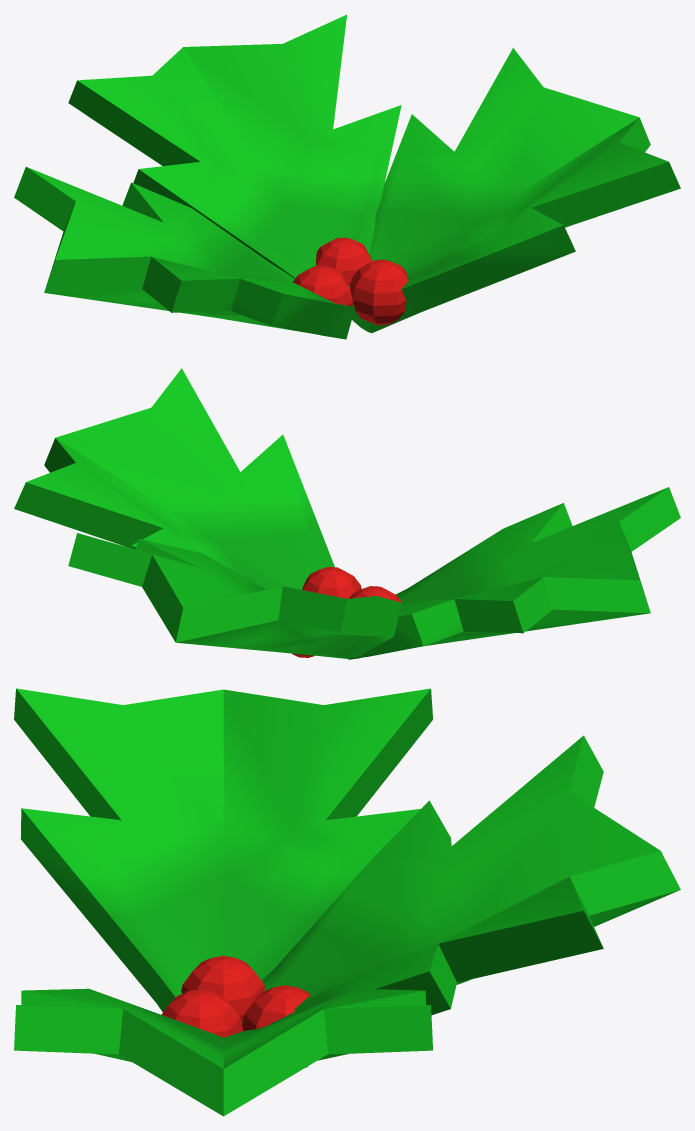
The model's file is Misseltoe.fbx.
The picture shows the model from 3 angles, top to bottom: view 1: azimuth 30°, elevation 25°; view 2: azimuth 150°, elevation 25°; view 3: azimuth 270°, elevation 25°; orthographic projection. The views are drawn at different scales.
Visible parts, largest first — view 1: Misseltoe; view 2: Misseltoe; view 3: Misseltoe.
Boxes of the visible parts, x1=… form: Misseltoe: x1=14, y1=14, x2=680, y2=339; Misseltoe: x1=14, y1=368, x2=680, y2=659; Misseltoe: x1=14, y1=688, x2=680, y2=1116.
Bounding box in the file's own units: 71.23 × 20.77 × 50.95.
